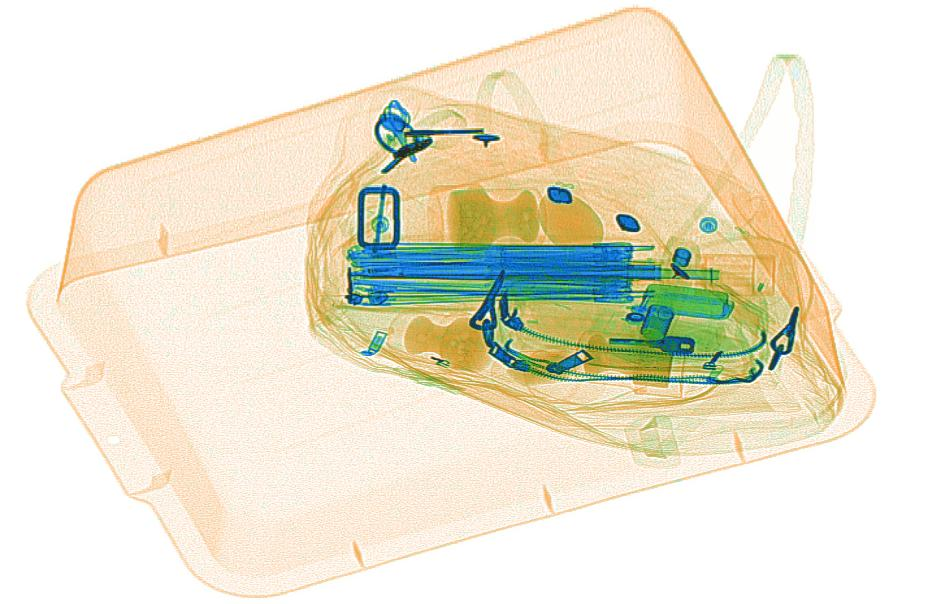seal: (447, 188, 544, 255), (579, 331, 677, 389), (403, 316, 492, 373)
